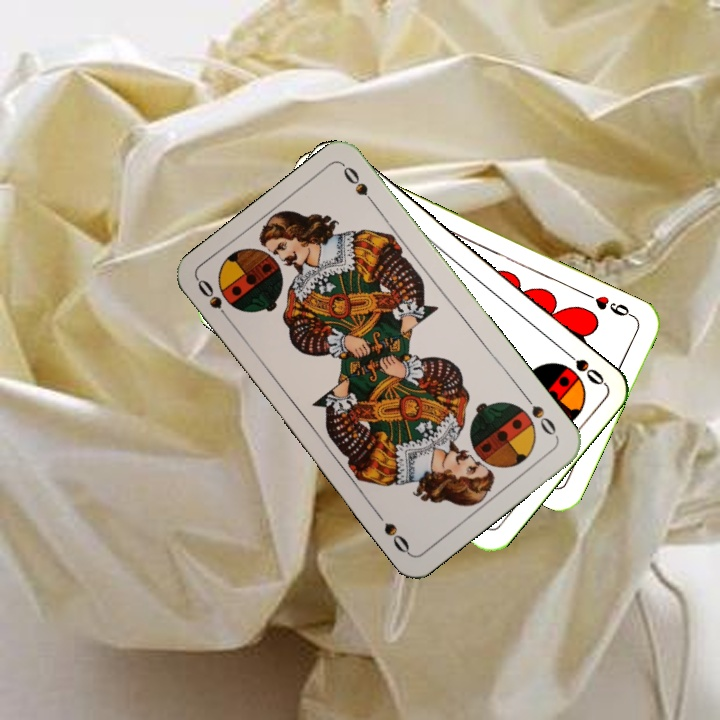H9: (582, 289, 638, 321)
SO: (557, 344, 607, 388), (193, 275, 235, 327), (519, 390, 559, 438)
